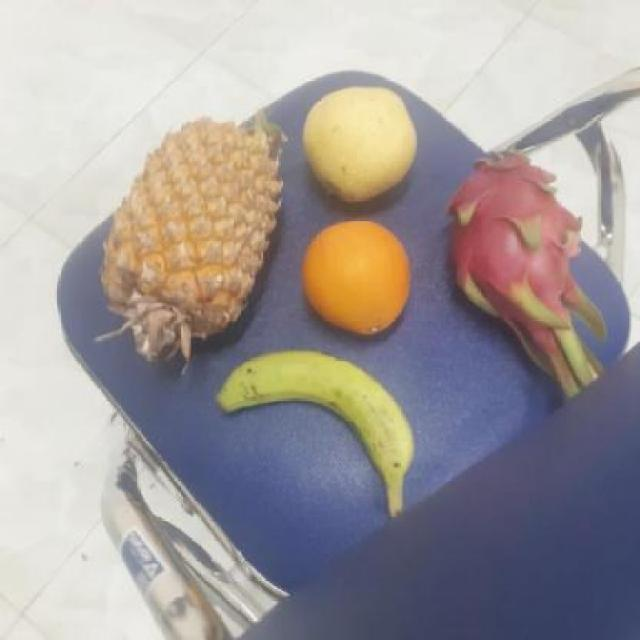banana: (215, 344, 419, 488)
dragon fruit: (448, 155, 588, 320)
oren: (298, 218, 422, 339)
pear: (298, 79, 424, 202)
pineapple: (104, 112, 291, 366)
